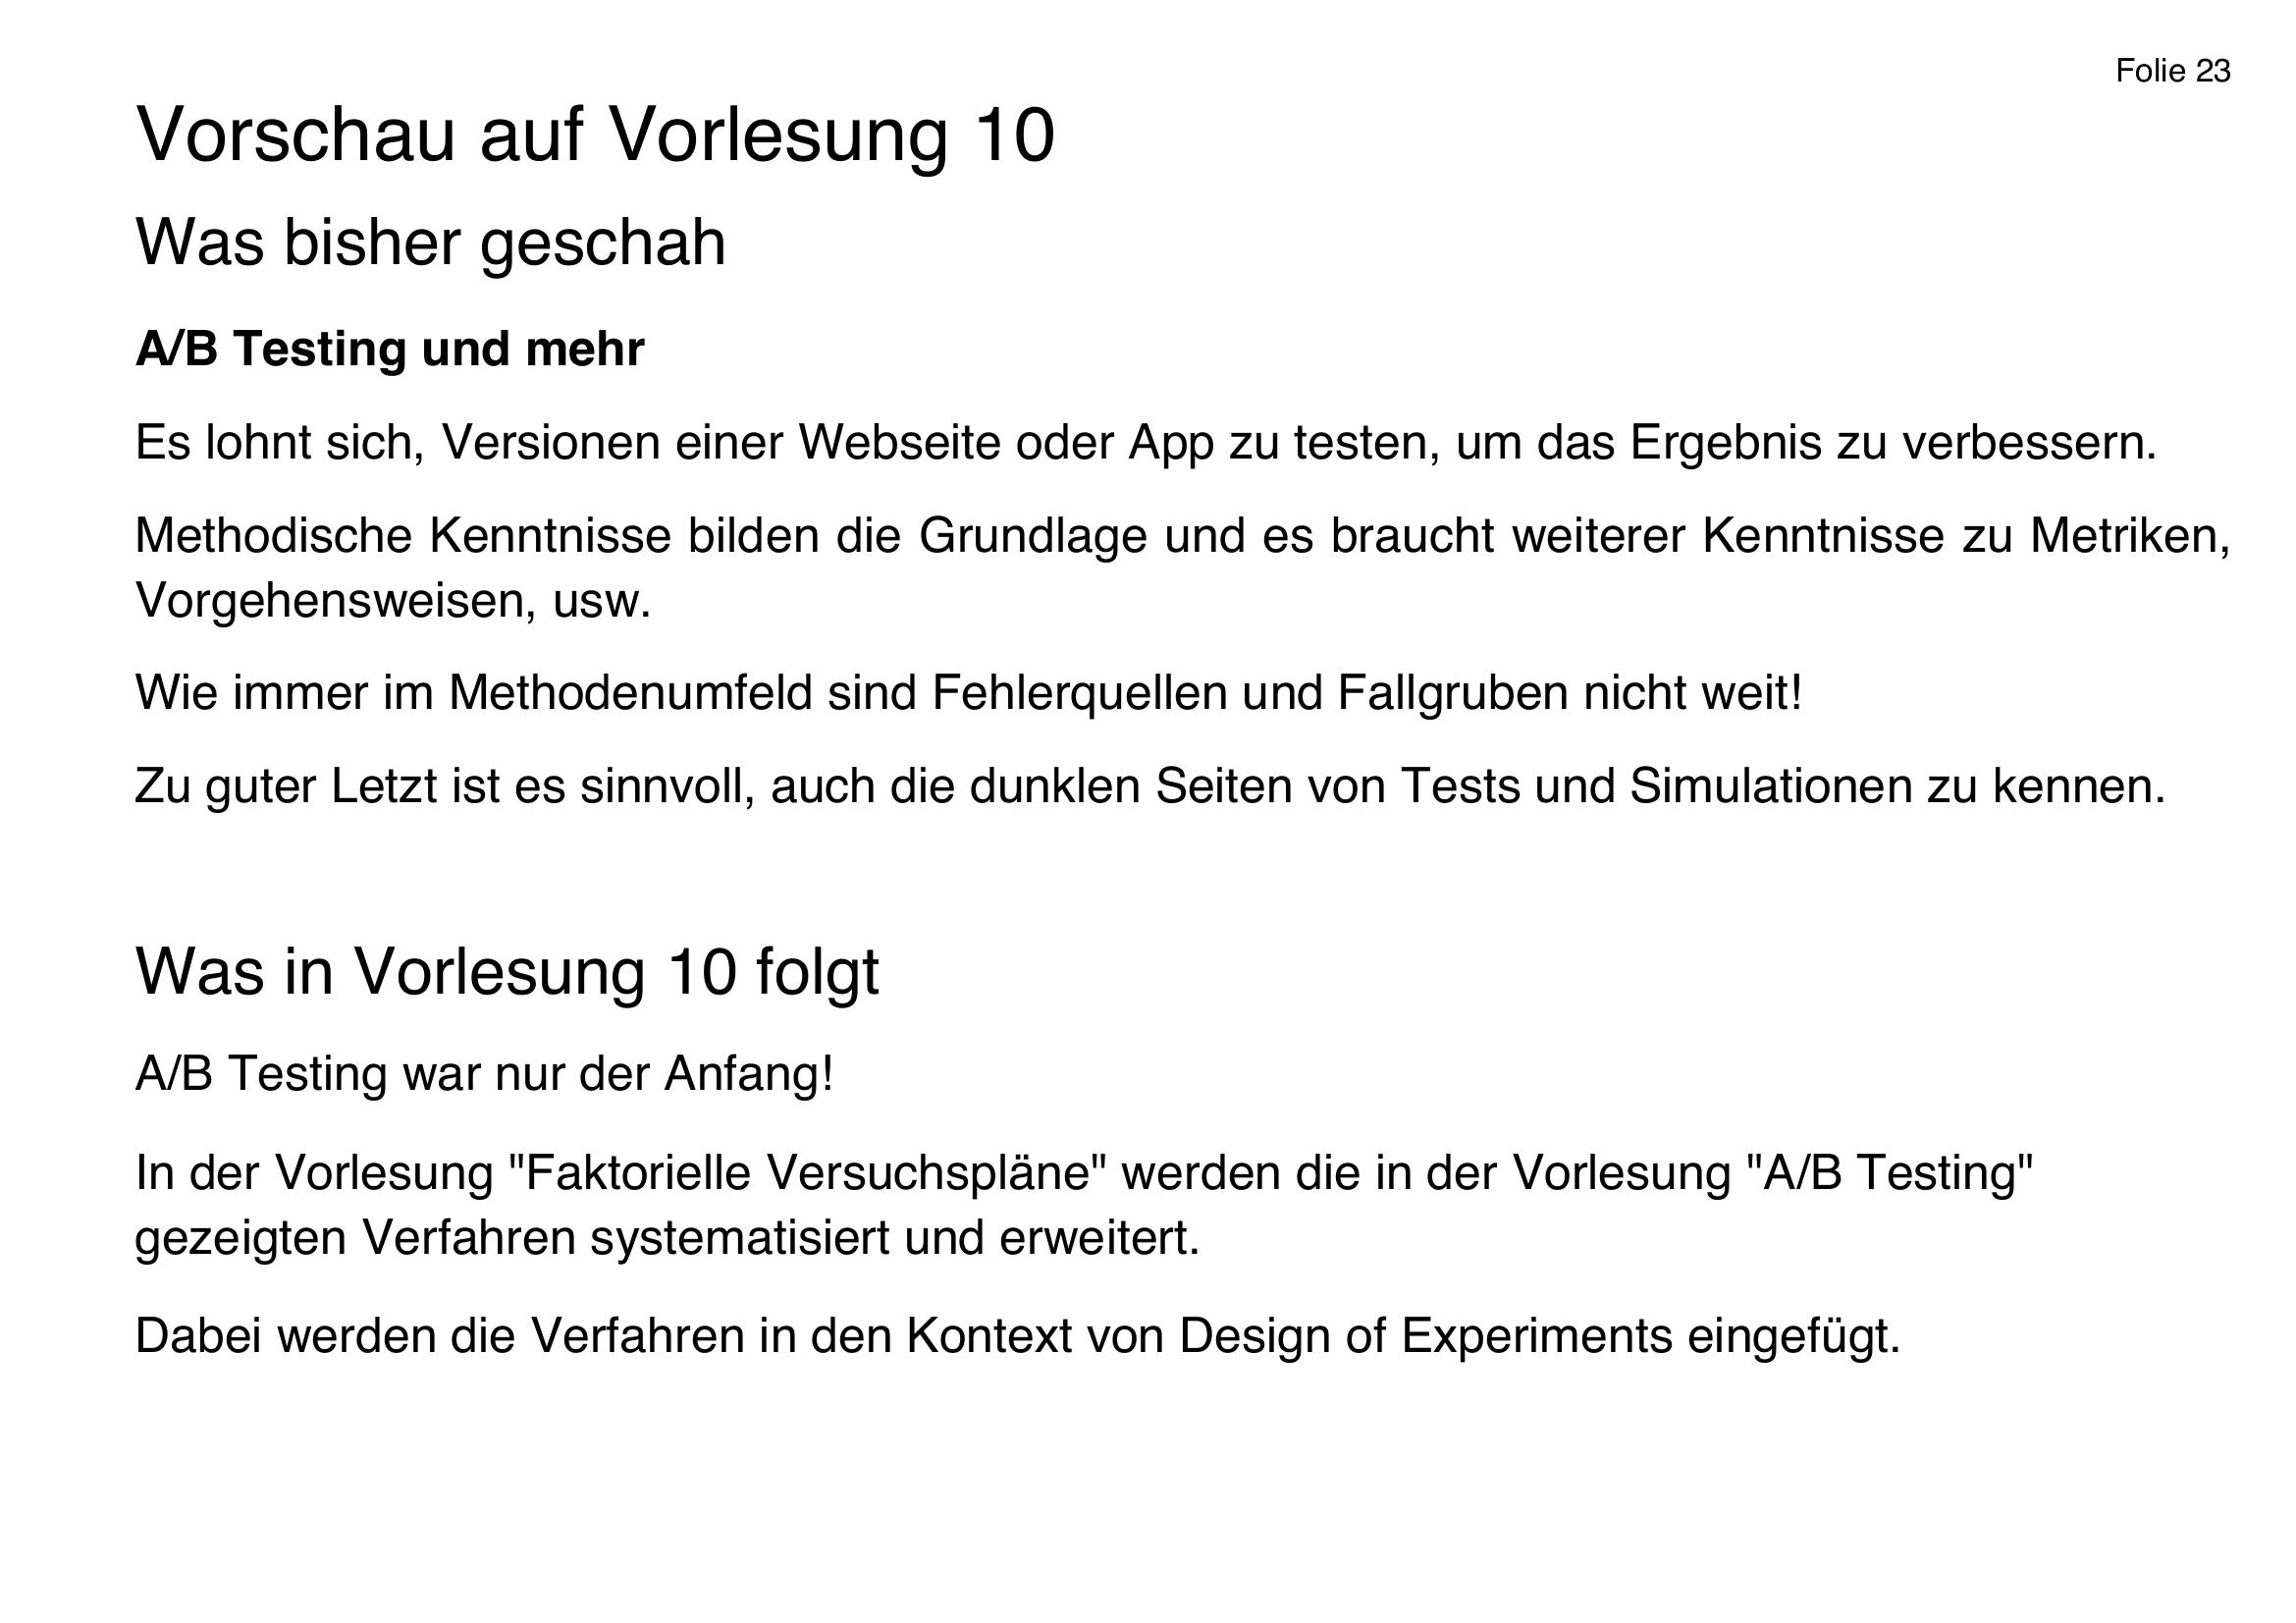Title: (128, 84, 1065, 181)
